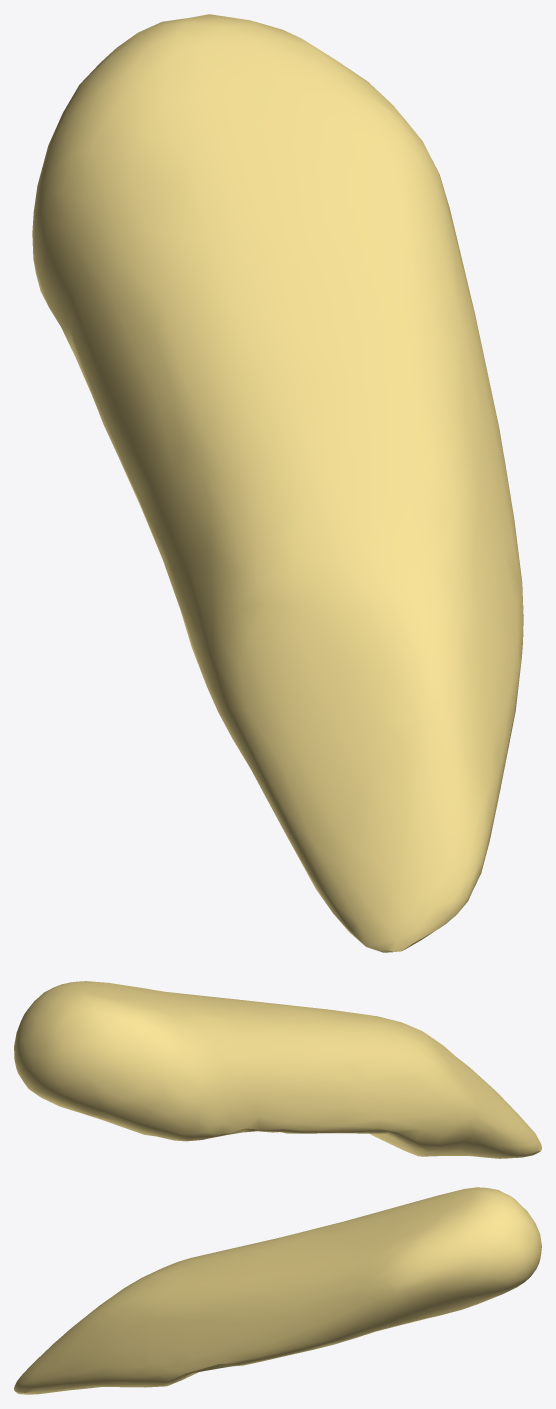
The model's file is fma73034_mm2795.glb.
3 renders of one model, top to bottom at view 1: azimuth 30°, elevation 25°; view 2: azimuth 150°, elevation 25°; view 3: azimuth 270°, elevation 25°, orthographic. The views are drawn at different scales.
Parts seen in each view (by area): view 1: FMA73034_MM2795; view 2: FMA73034_MM2795; view 3: FMA73034_MM2795.
Part boxes in pixels (<box>): FMA73034_MM2795: <box>32,14,523,952</box>; FMA73034_MM2795: <box>14,981,541,1158</box>; FMA73034_MM2795: <box>14,1187,541,1394</box>.
Bounding box in the file's own units: 0.00222 × 0.00245 × 0.0045.
